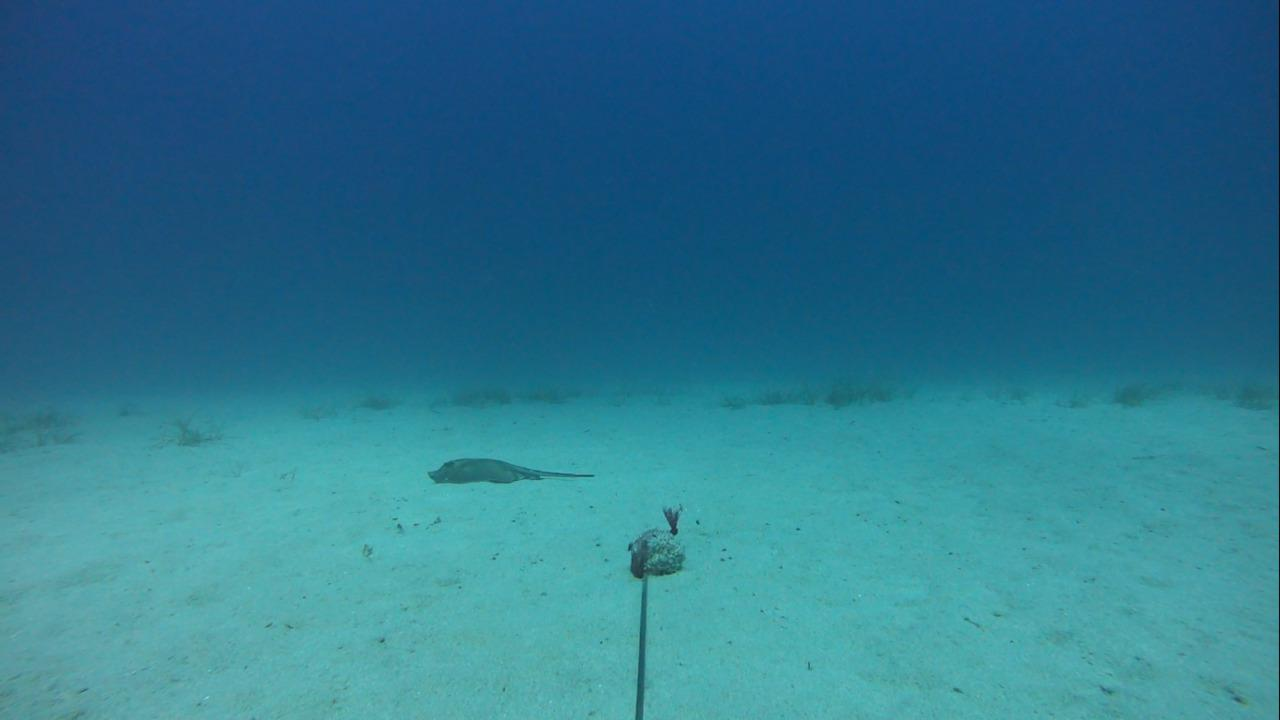myliobatis: (421, 451, 597, 487)
